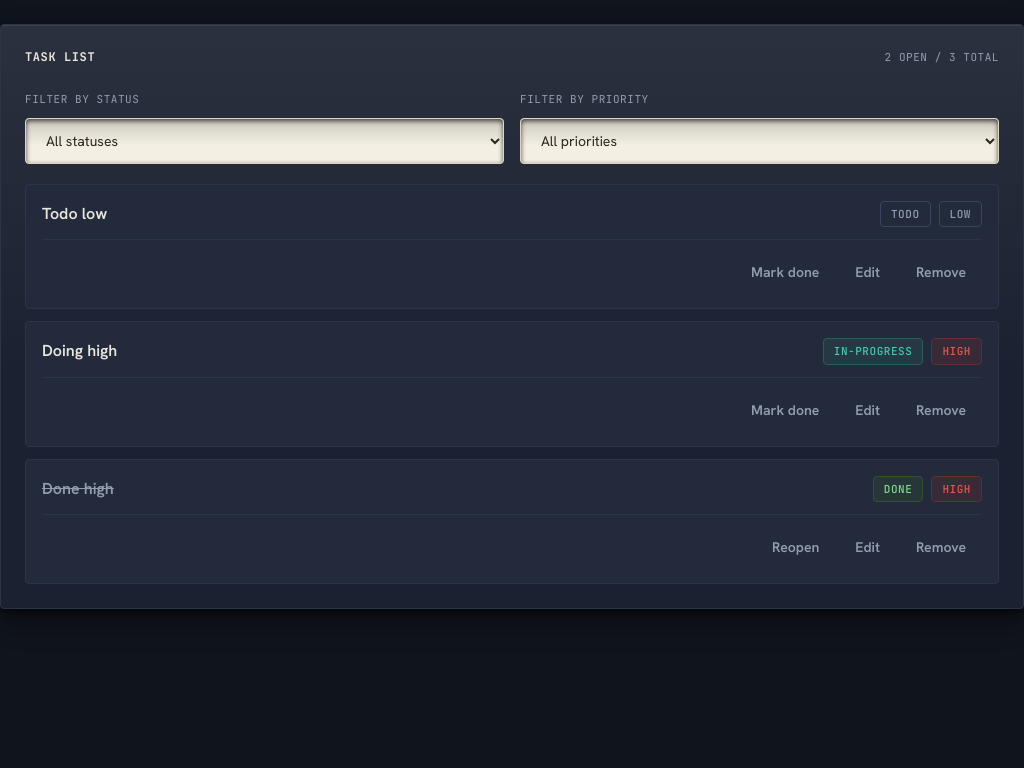
Scenario: TaskList filtering › explains an empty result from filters rather than looking like no tasks exist
The width and height of the screenshot is (1024, 768).
Select "Done" in the dropdown labelled "Filter by status" at x=264, y=140, box top-left (25, 118), bottom-right (504, 164)
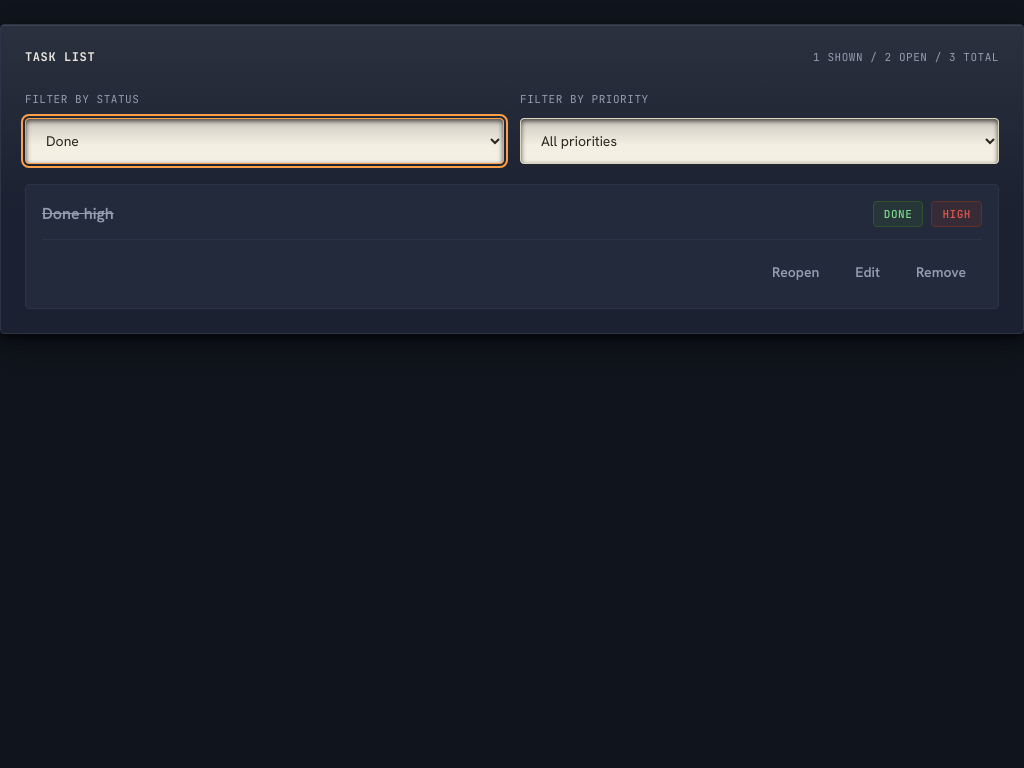
Select "Low" in the dropdown labelled "Filter by priority" at x=760, y=140, box top-left (520, 118), bottom-right (999, 164)
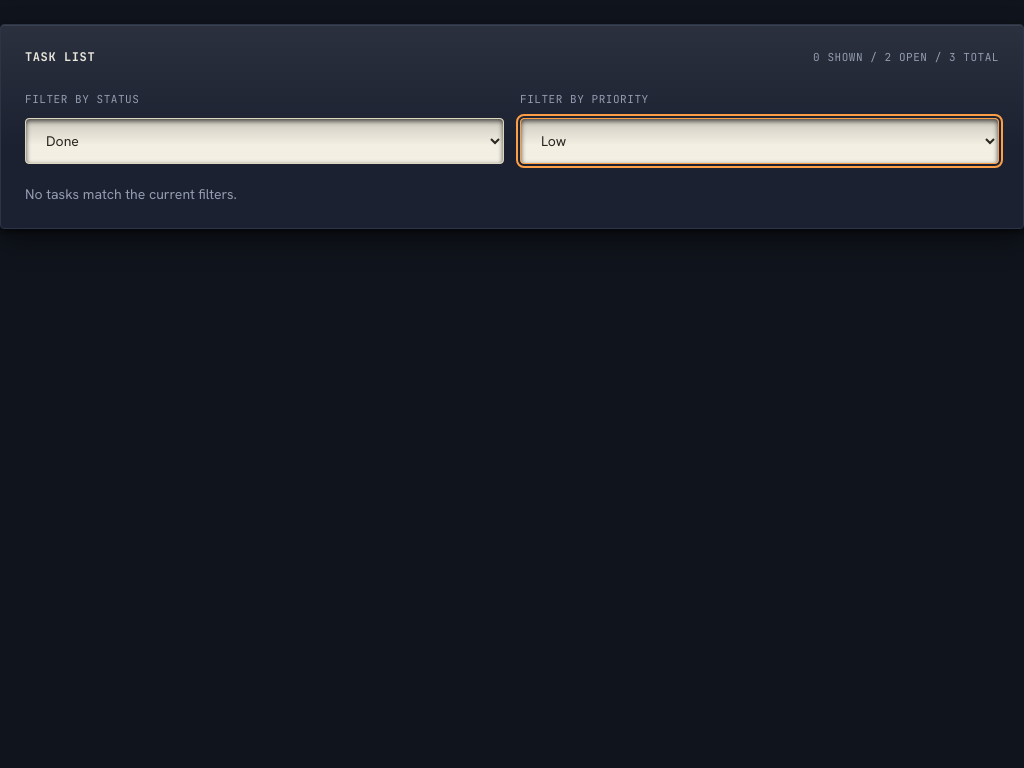
Expected: the text "No tasks match the current filters." is shown, top-left (25, 184), bottom-right (237, 202)
